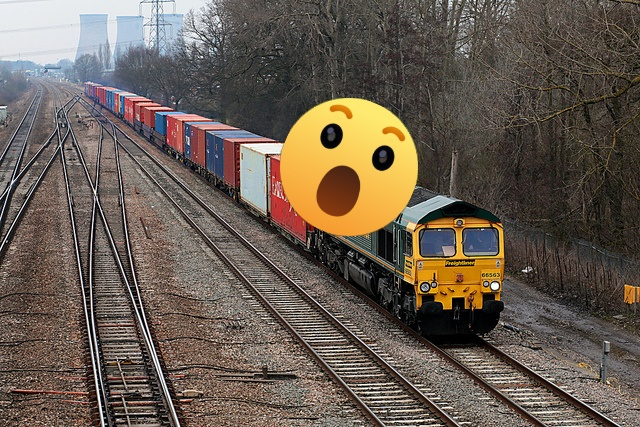wow: (280, 98, 418, 236)
